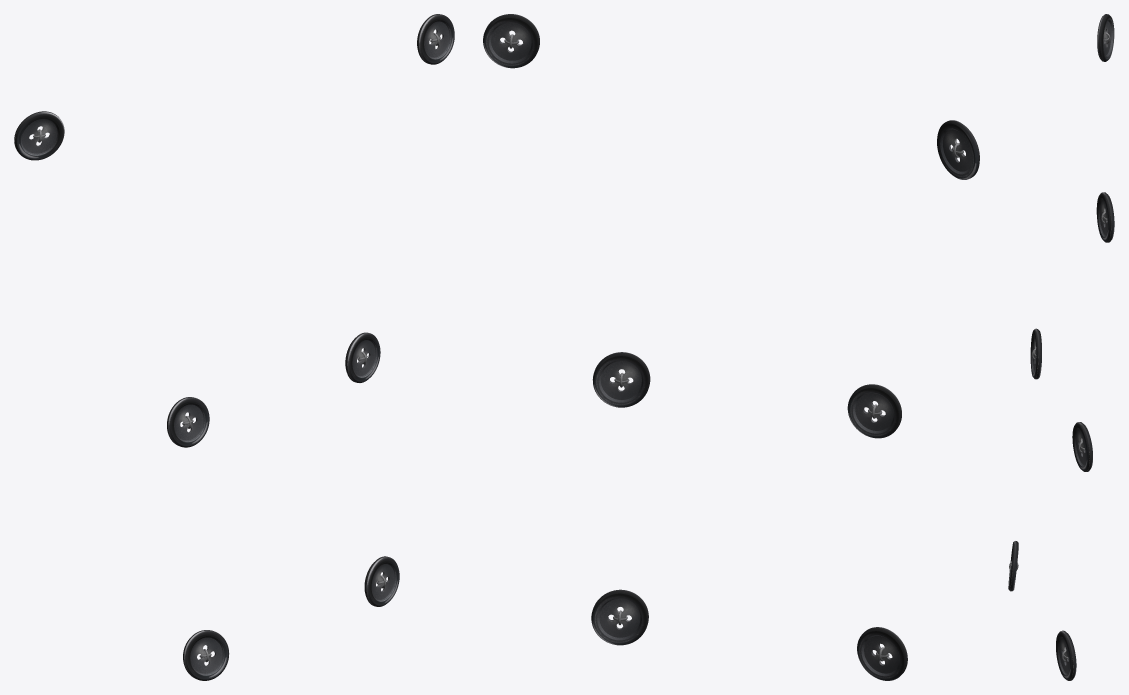
Rendered from breastedbutton.glb.
3 views of the same model, side by side, from view 1: azimuth 30°, elevation 25°; view 2: azimuth 150°, elevation 25°; view 3: azimuth 270°, elevation 25° (orthographic). The views are drawn at different scales.
Visible parts, largest first — view 1: double_breasted_buttons; view 2: double_breasted_buttons; view 3: double_breasted_buttons.
Boxes of the visible parts, x1=… form: double_breasted_buttons: x1=14, y1=14, x2=454, y2=680; double_breasted_buttons: x1=483, y1=14, x2=979, y2=680; double_breasted_buttons: x1=1008, y1=14, x2=1114, y2=680.
Size of the model in its own units: 0.028 by 0.0341 by 0.0063.
Materials: 1 (1 with a texture image).
